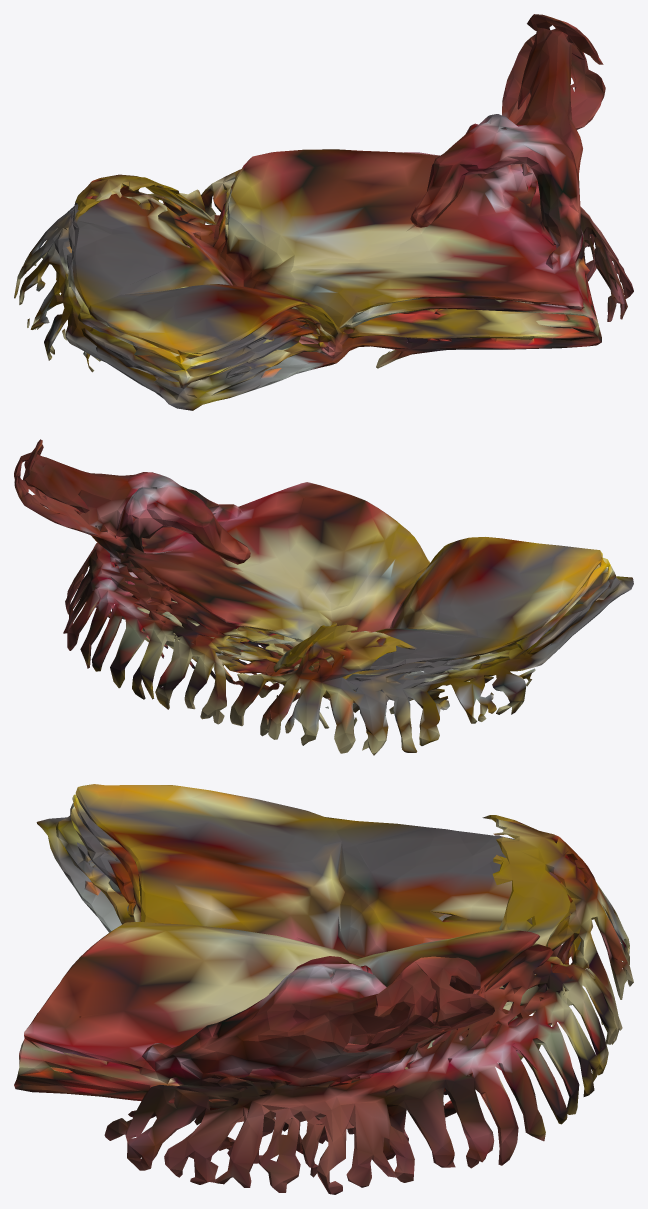
File: dragonHatchling.glb
3 views of the same model, one above another, from view 1: azimuth 30°, elevation 25°; view 2: azimuth 150°, elevation 25°; view 3: azimuth 270°, elevation 25° (orthographic). The views are drawn at different scales.
Parts seen in each view (by area): view 1: world; view 2: world; view 3: world.
Boxes of the visible parts, left/top/right/bottom form: world: left=14, top=14, right=633, bottom=410; world: left=14, top=439, right=633, bottom=755; world: left=14, top=784, right=633, bottom=1194.
Bounding box in the file's own units: 2.9 × 1 × 2.28.
